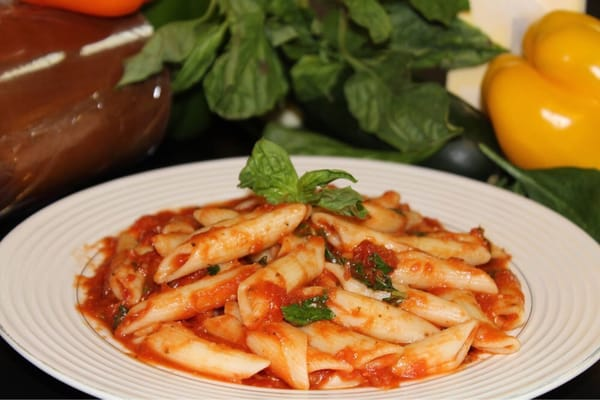taco: (479, 10, 600, 173)
